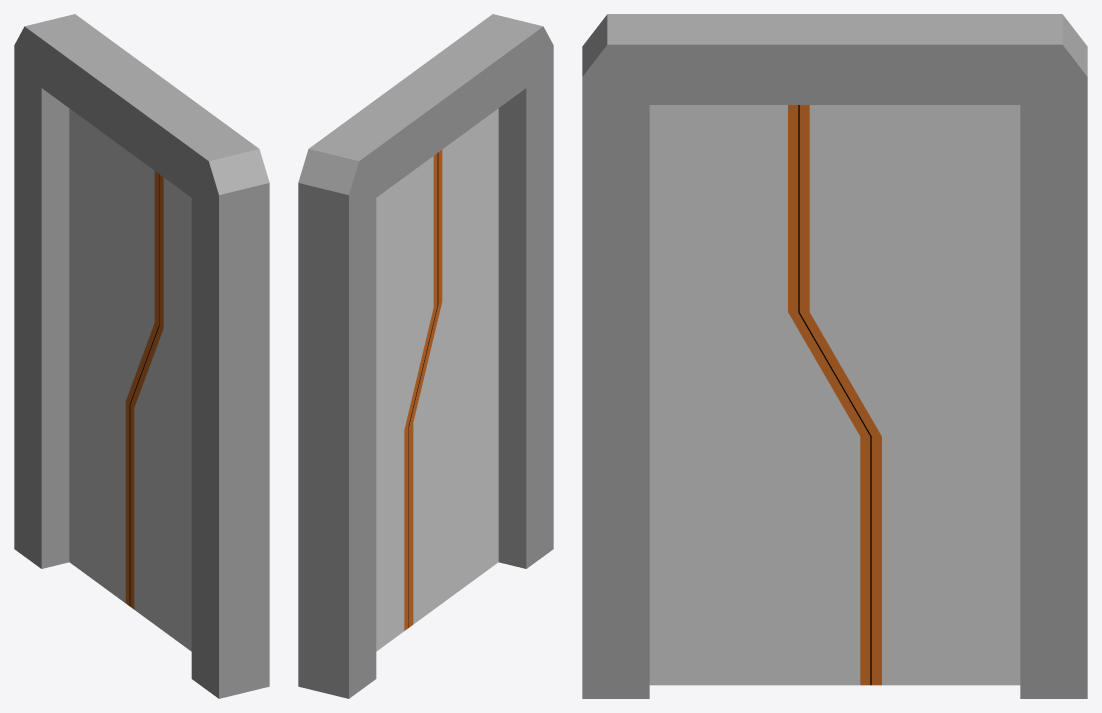
The model's file is Porta_03.fbx.
The picture shows the model from 3 angles, left to right: view 1: azimuth 30°, elevation 25°; view 2: azimuth 150°, elevation 25°; view 3: azimuth 270°, elevation 25°; orthographic projection. The views are drawn at different scales.
Visible parts, largest first — view 1: Porta2, Porta.002; view 2: Porta2, Porta.002; view 3: Porta.002, Porta2.
Boxes of the visible parts, x1=… form: Porta2: x1=14, y1=14, x2=269, y2=698; Porta.002: x1=69, y1=108, x2=191, y2=651; Porta2: x1=298, y1=14, x2=553, y2=698; Porta.002: x1=376, y1=108, x2=498, y2=651; Porta.002: x1=649, y1=105, x2=1020, y2=685; Porta2: x1=582, y1=14, x2=1087, y2=698.
Size of the model in its own units: 0.2 by 1.4 by 2.
